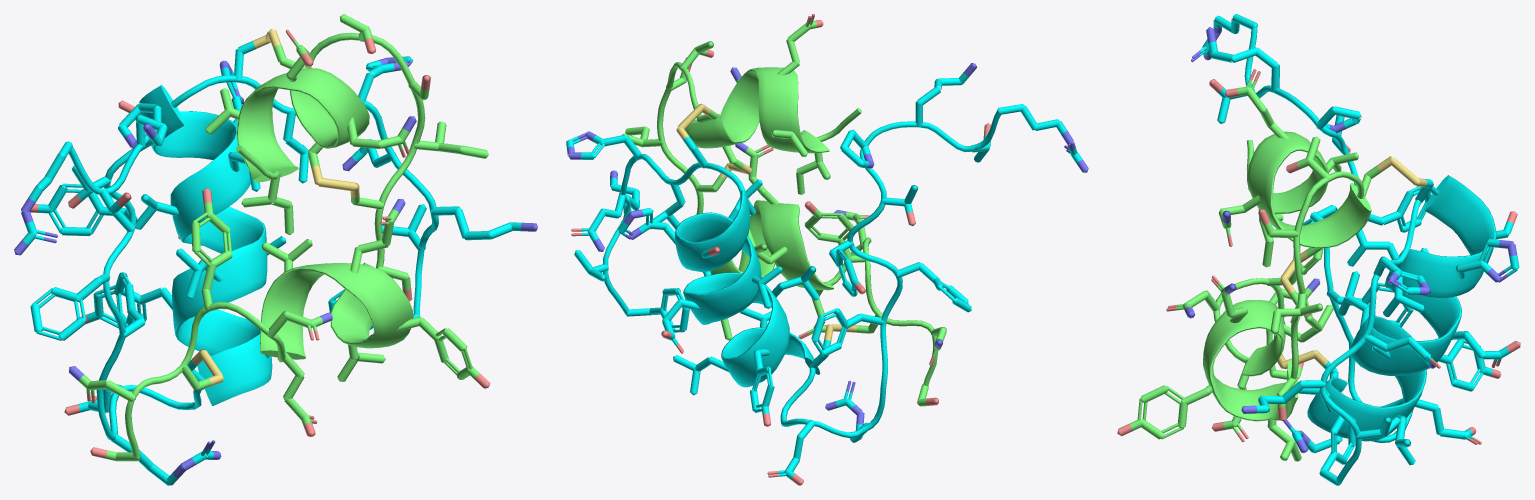
File: insulin1.gltf
3 views of the same model, side by side, from view 1: azimuth 30°, elevation 25°; view 2: azimuth 150°, elevation 25°; view 3: azimuth 270°, elevation 25° (orthographic). The views are drawn at different scales.
Visible parts, largest first — view 1: node-geom327; view 2: node-geom327; view 3: node-geom327.
Part boxes in pixels (x1,y1,x2,y2): node-geom327: (68, 32, 438, 458); node-geom327: (603, 62, 1000, 438); node-geom327: (1203, 26, 1496, 483).
Bounding box in the file's own units: 3.46e-09 × 2.79e-09 × 2.41e-09.
